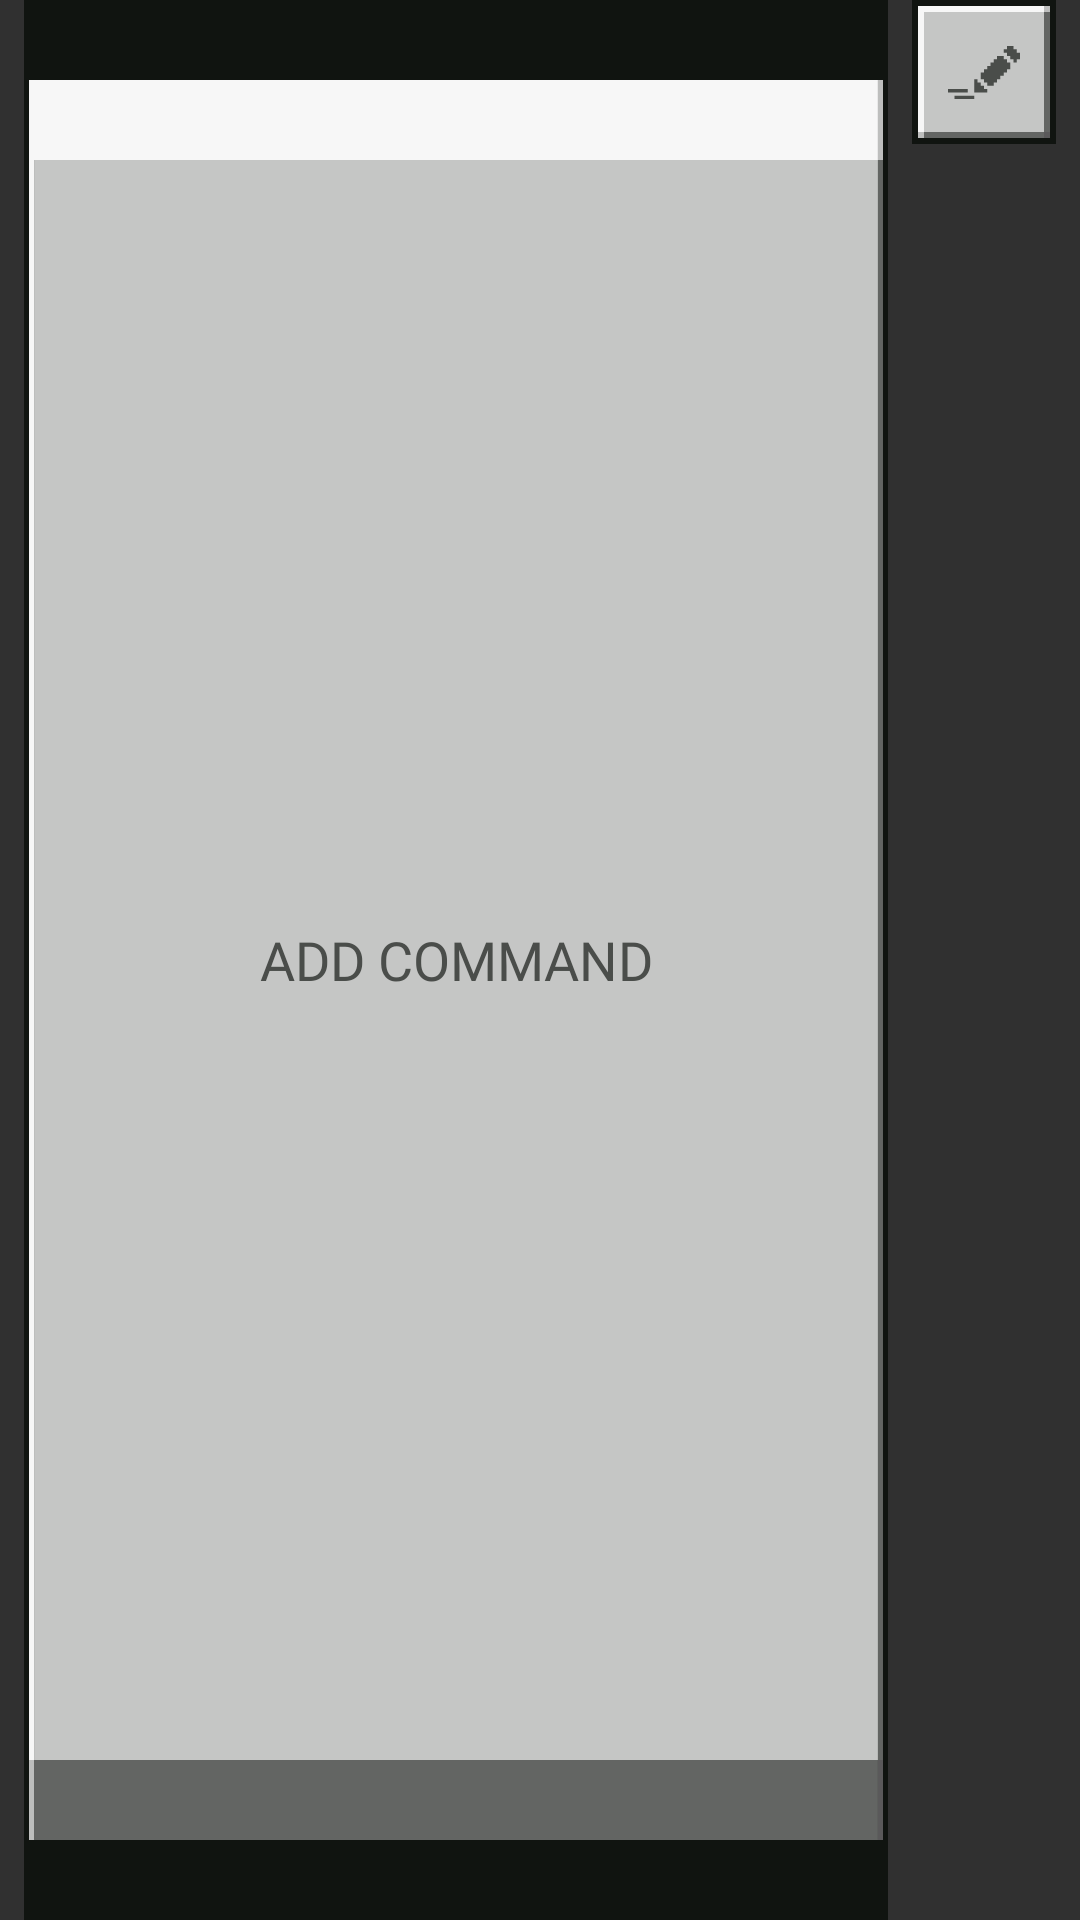

Locate icon controls on the screen. Image size 1080px×1920px, boxes as (x1, y1, x2, y2).
Edit command: (912, 0, 1056, 144)
